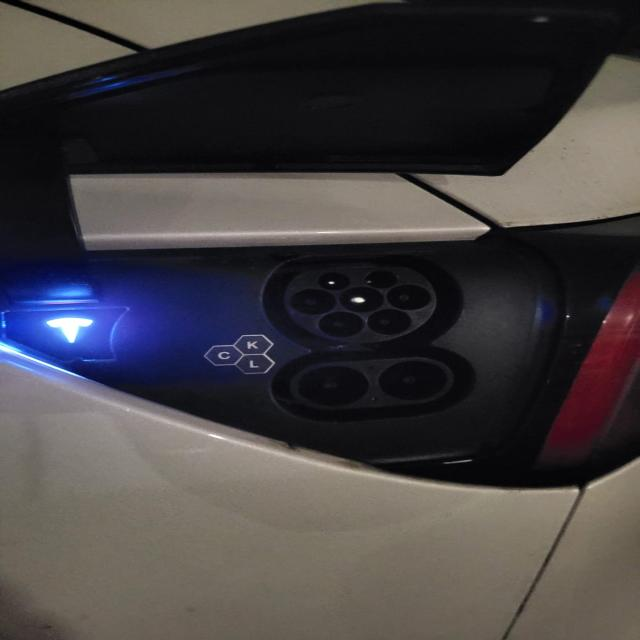inlet: (285, 266, 437, 343)
inlet-above-left: (319, 272, 350, 290)
inlet-above-right: (366, 270, 398, 288)
inlet-below-left: (319, 311, 364, 338)
inlet-below-right: (367, 309, 411, 335)
inlet-circle: (339, 287, 384, 313)
inlet-circle-left: (292, 289, 336, 315)
inlet-circle-right: (387, 284, 432, 311)
inlet-minus: (379, 361, 447, 401)
inlet-plus: (299, 366, 369, 406)
